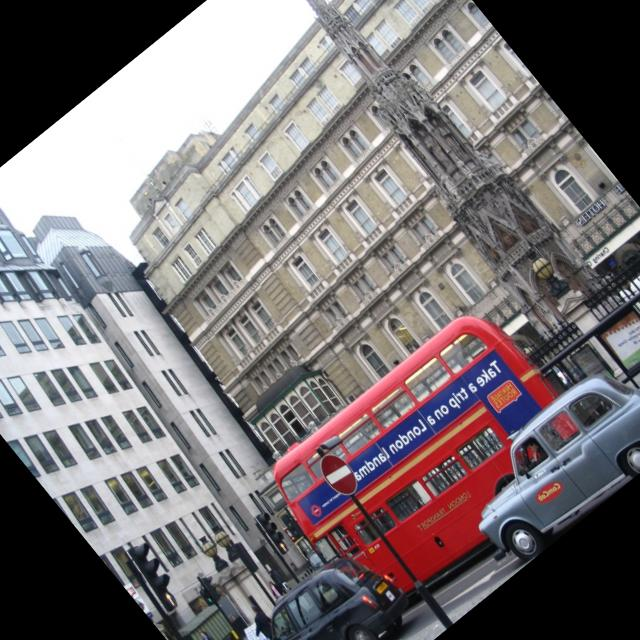bus: (254, 292, 602, 626)
